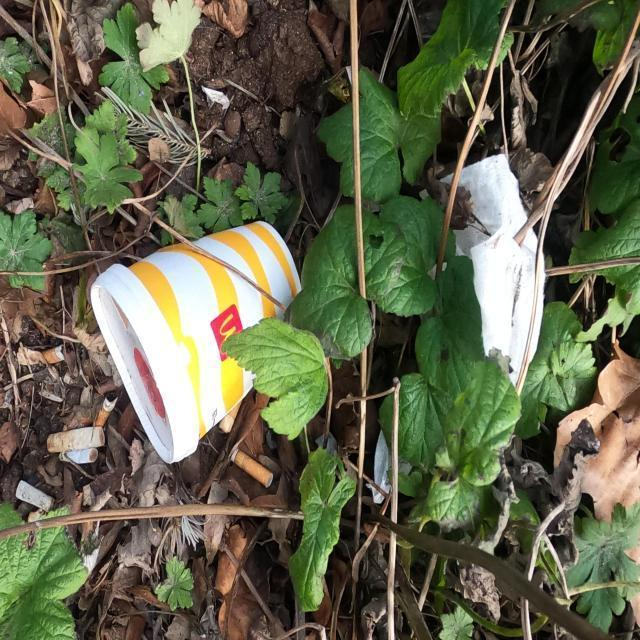Cup: (89, 215, 303, 469)
Paper: (370, 150, 546, 508)
